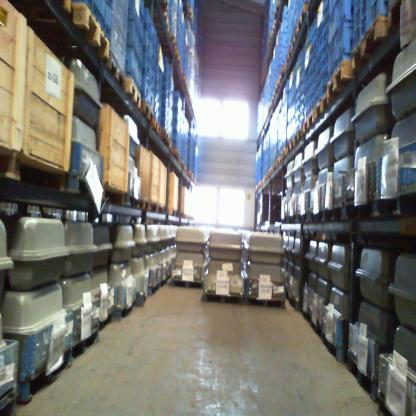pallet: (17, 343, 74, 404), (15, 149, 67, 193), (71, 3, 110, 59), (352, 15, 387, 70), (374, 182, 416, 217), (347, 357, 376, 401), (326, 59, 355, 100), (70, 328, 99, 368), (66, 171, 103, 196), (322, 332, 347, 362), (344, 196, 375, 219), (244, 294, 286, 309), (107, 57, 125, 89), (203, 290, 244, 304), (0, 383, 17, 415), (1, 143, 15, 180), (125, 77, 141, 108), (103, 185, 126, 205), (387, 1, 402, 30), (322, 204, 344, 223), (114, 301, 134, 321), (97, 308, 114, 331), (139, 101, 155, 124), (314, 93, 328, 119), (378, 395, 395, 416), (170, 279, 204, 289), (297, 2, 308, 31), (303, 111, 315, 132), (126, 193, 140, 208), (308, 210, 324, 223), (134, 291, 147, 306), (291, 28, 298, 51), (161, 128, 171, 144), (152, 119, 161, 136), (61, 0, 71, 15), (294, 128, 303, 144), (148, 283, 160, 295), (279, 65, 287, 82), (169, 31, 176, 50), (296, 213, 307, 224), (163, 11, 169, 31), (140, 199, 150, 210), (286, 47, 292, 65), (286, 139, 294, 152), (280, 147, 287, 160), (172, 147, 180, 158), (161, 0, 168, 12), (288, 215, 296, 224), (275, 79, 280, 93), (276, 156, 282, 166), (189, 7, 193, 22), (272, 92, 276, 104), (180, 160, 185, 169), (269, 167, 273, 176), (272, 163, 276, 171), (264, 176, 267, 182)
small_load_carrier: (338, 20, 353, 56), (328, 27, 338, 70), (328, 3, 338, 44), (338, 0, 352, 27), (99, 1, 112, 29), (128, 19, 137, 56), (127, 46, 136, 76), (129, 1, 138, 30), (141, 70, 149, 99), (137, 9, 143, 45), (143, 49, 150, 79), (144, 9, 151, 39), (137, 29, 142, 67), (144, 27, 150, 58), (150, 19, 156, 47), (150, 59, 155, 91), (150, 41, 156, 67), (138, 0, 144, 26), (136, 57, 141, 87), (149, 78, 154, 106), (328, 1, 337, 12), (94, 0, 100, 12)
